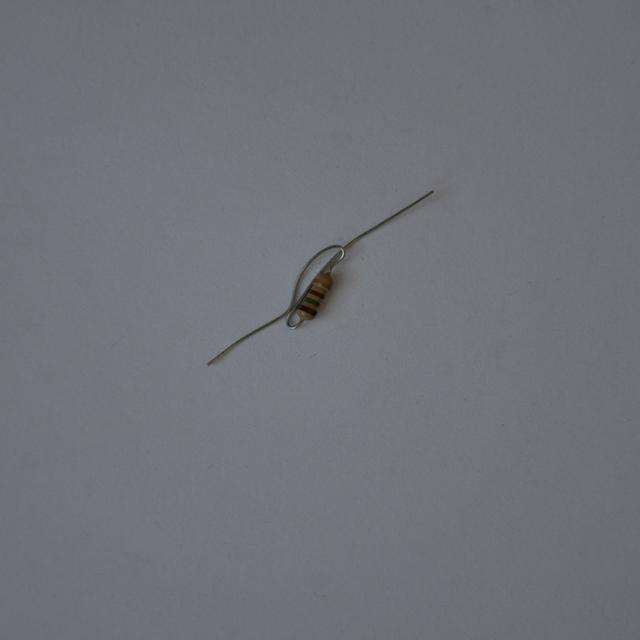brown: (308, 287, 325, 298), (298, 304, 315, 314)
gold: (315, 276, 331, 288)
green: (304, 296, 321, 306)
resistor: (292, 267, 346, 329)
